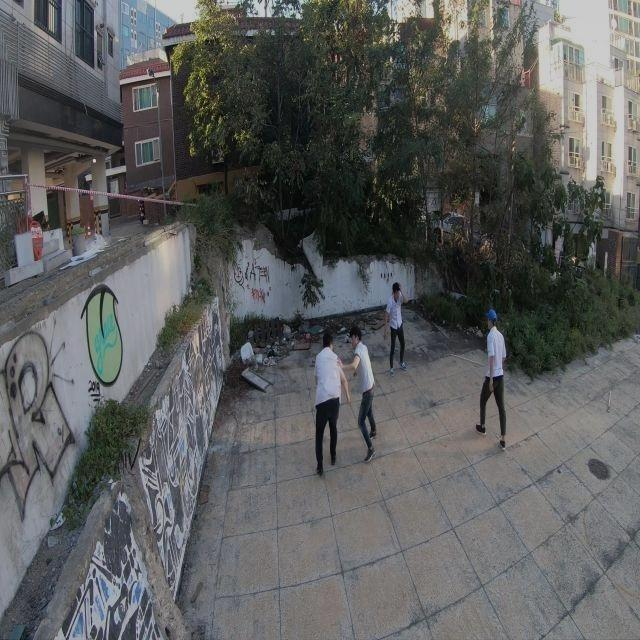fight: (310, 327, 377, 471)
non-fight: (474, 310, 510, 450), (383, 282, 407, 372)
